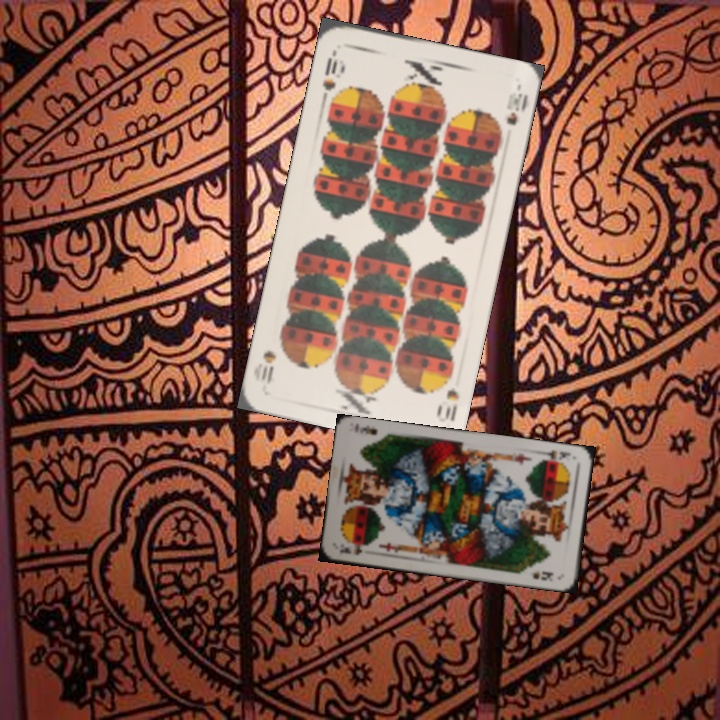S10: (432, 367, 462, 425), (318, 45, 340, 104)
SK: (537, 446, 574, 466), (336, 542, 371, 557)
